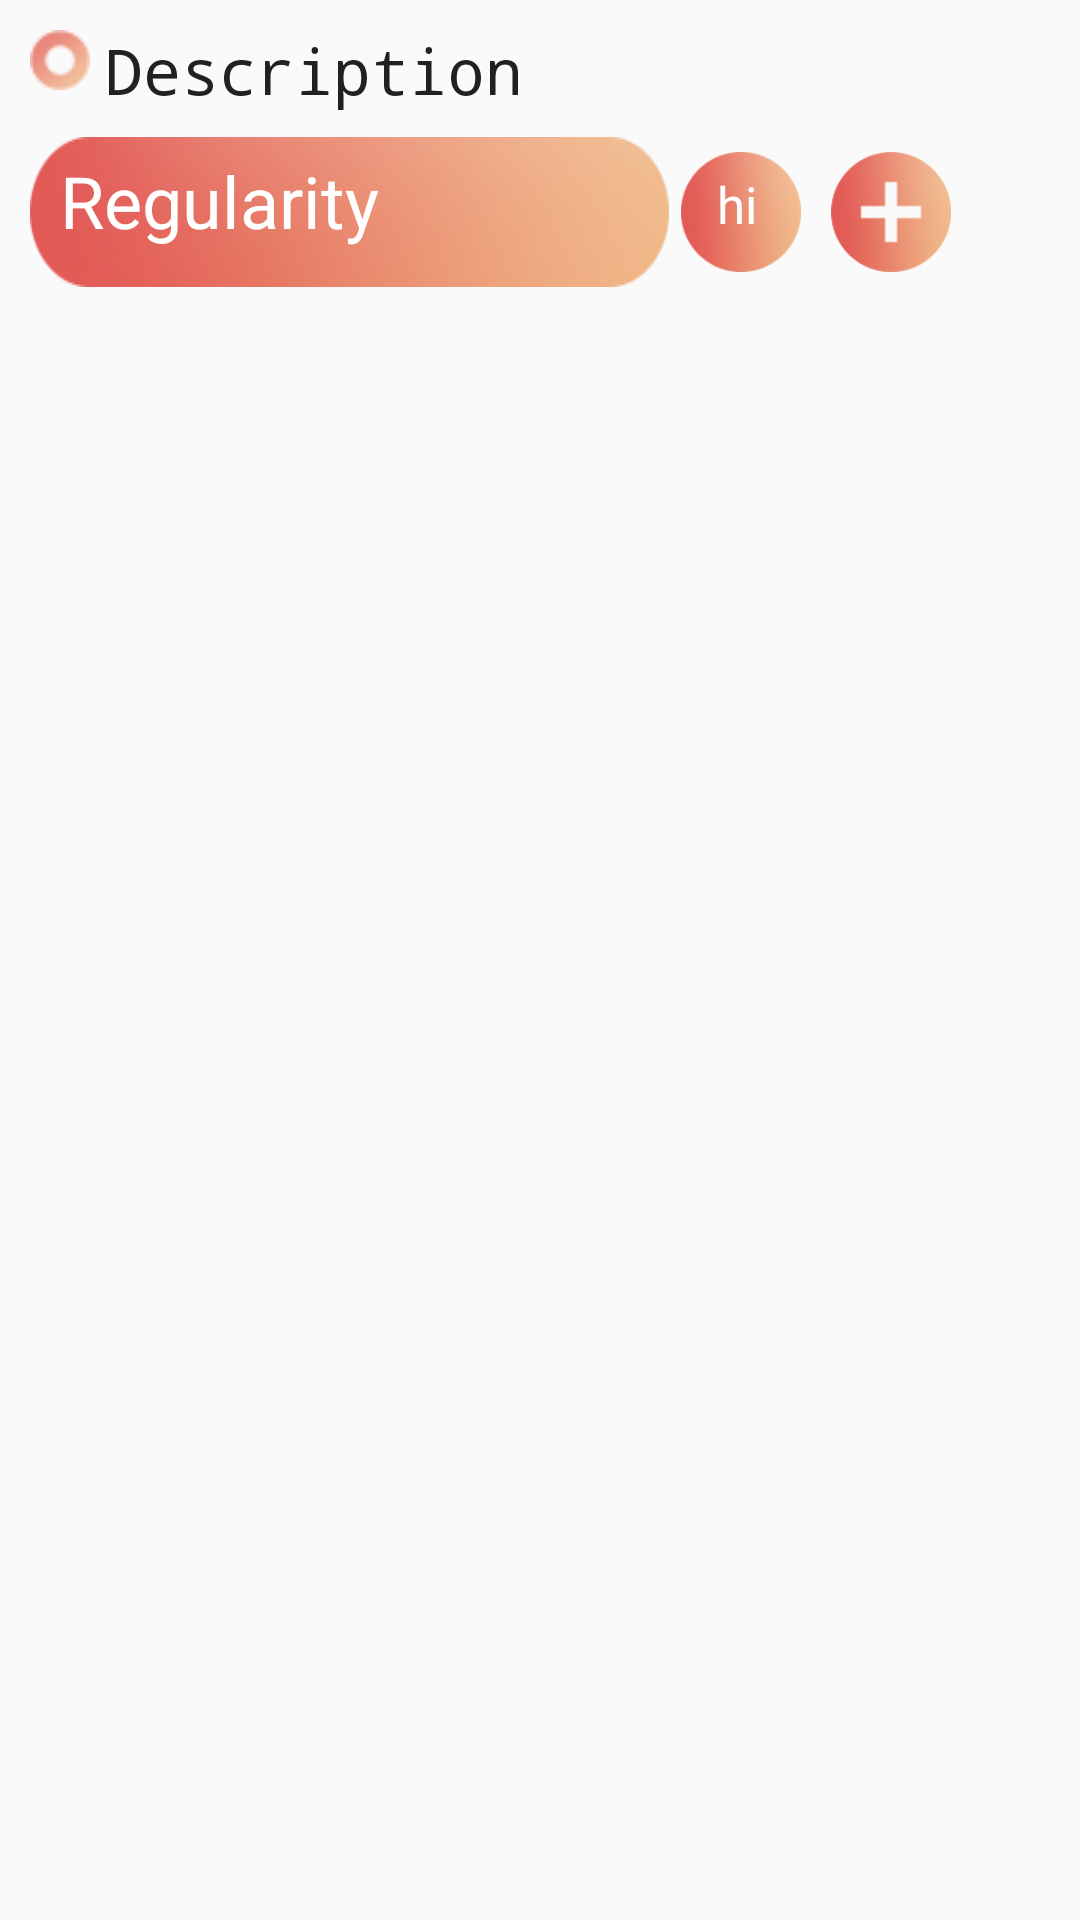

Icon click points for this 1080 × 1920 phone screenshot, format (x=x, y=y):
add counter: (x=891, y=212)
bad habit circle: (x=60, y=60)
